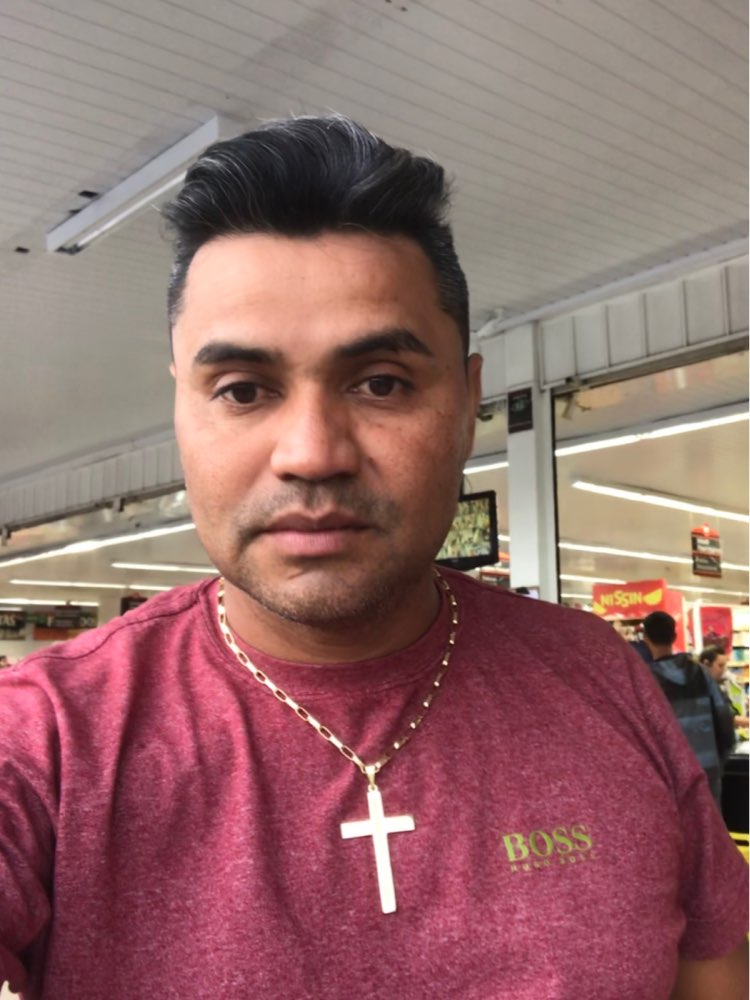shirts: (29, 585, 738, 1000)
